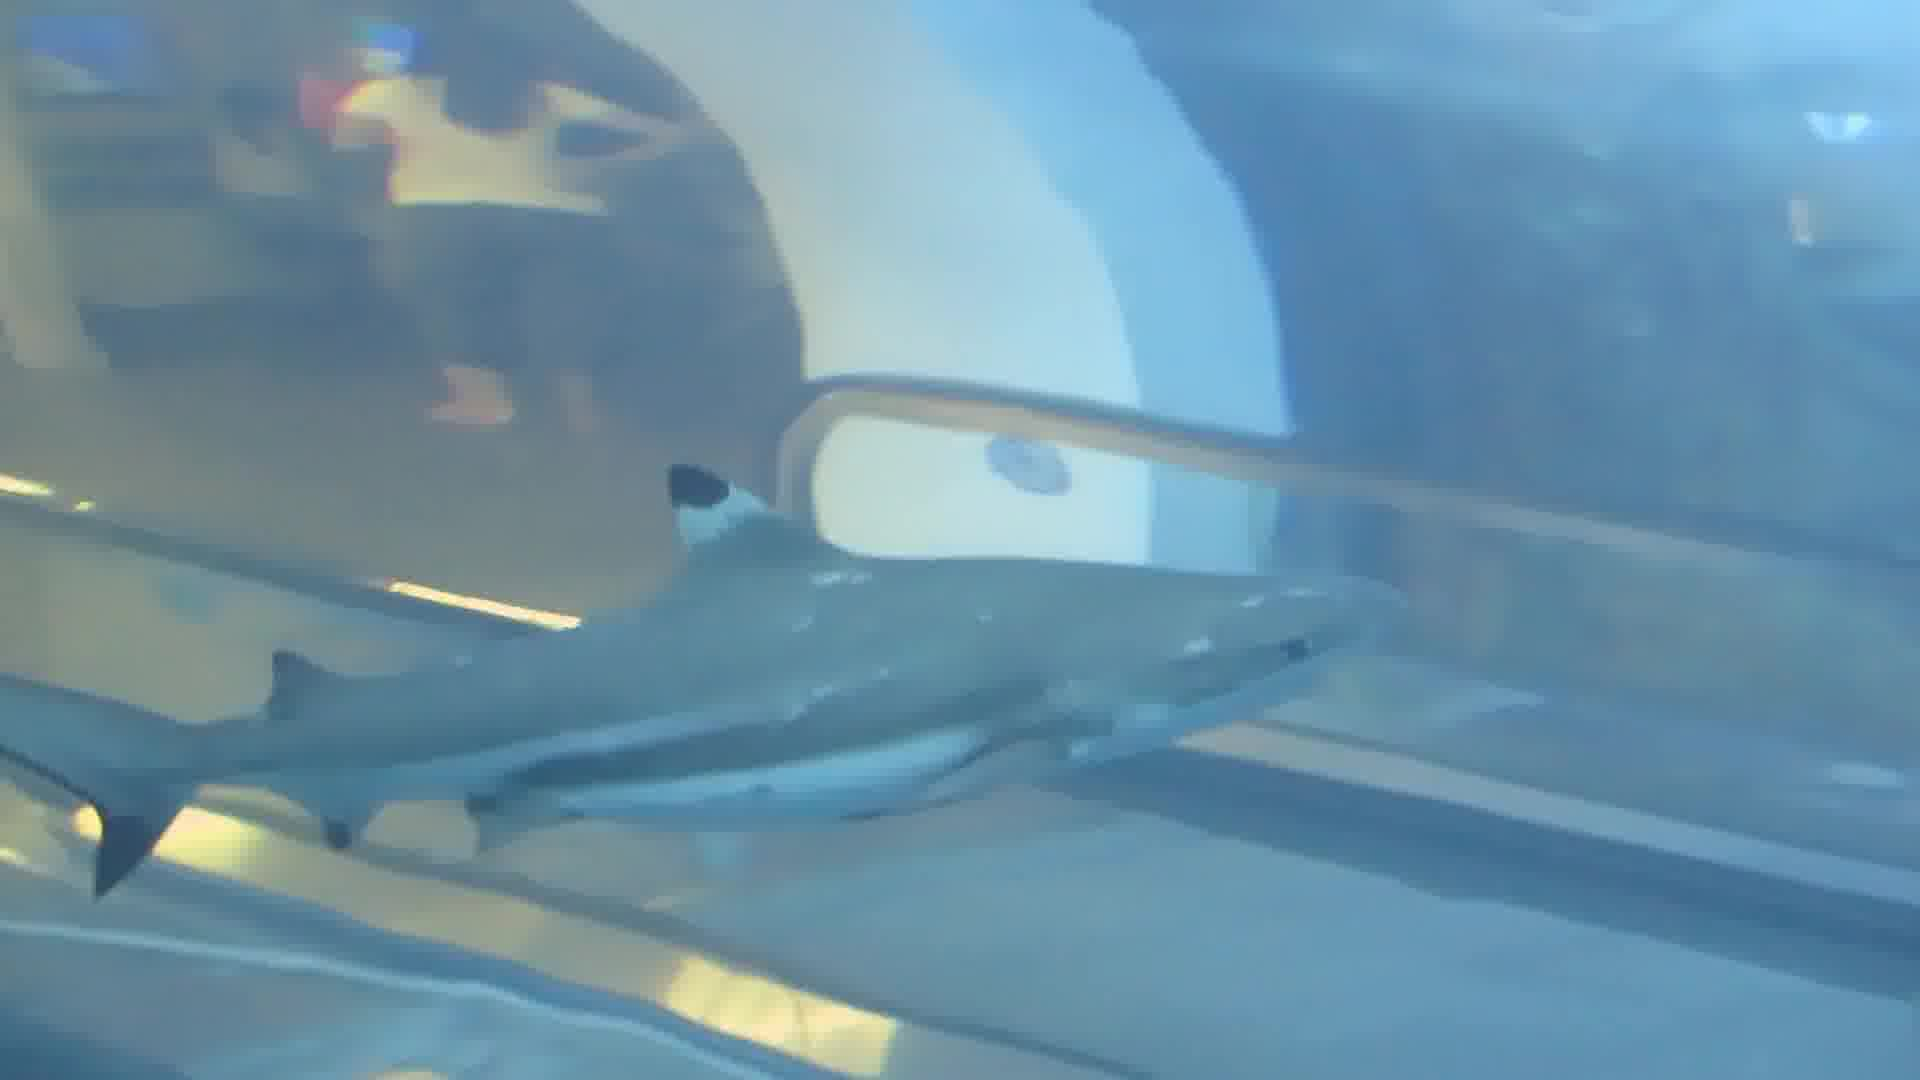Carcharhinus melanopterus: (4, 411, 1378, 920)
